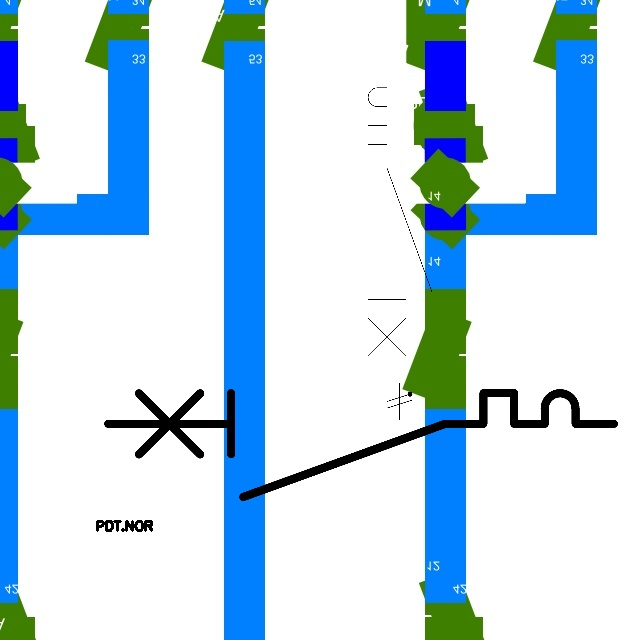interruptor_termomagnetico: (95, 380, 627, 510), (360, 56, 440, 383)
